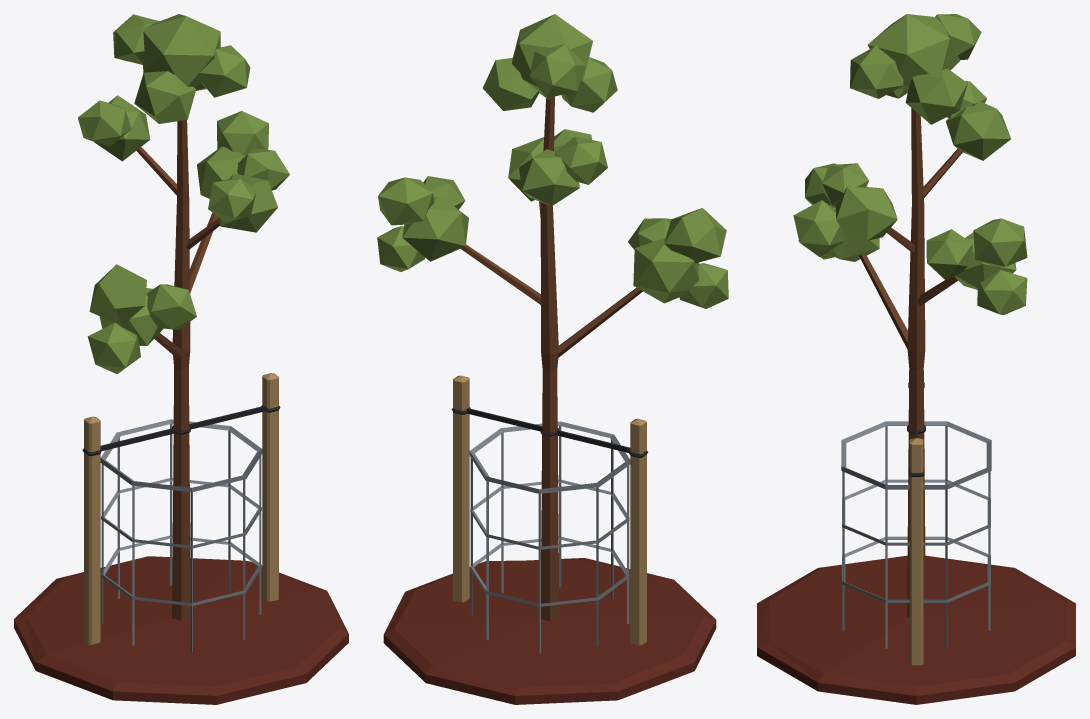
File: staked-street-sapling-51ffb4.glb
3 renders of one model, left to right at view 1: azimuth 30°, elevation 25°; view 2: azimuth 150°, elevation 25°; view 3: azimuth 270°, elevation 25°, orthographic.
Parts seen in each view (by area): view 1: sapling-base, crown-mesh; view 2: sapling-base, crown-mesh; view 3: sapling-base, crown-mesh.
Boxes of the visible parts, <box> form: sapling-base: <box>14,368,348,704</box>; crown-mesh: <box>78,14,289,374</box>; sapling-base: <box>383,370,716,704</box>; crown-mesh: <box>377,14,728,371</box>; sapling-base: <box>757,368,1075,704</box>; crown-mesh: <box>793,14,1027,369</box>.
Size of the model in its own units: 1.7 by 3.47 by 1.62.
